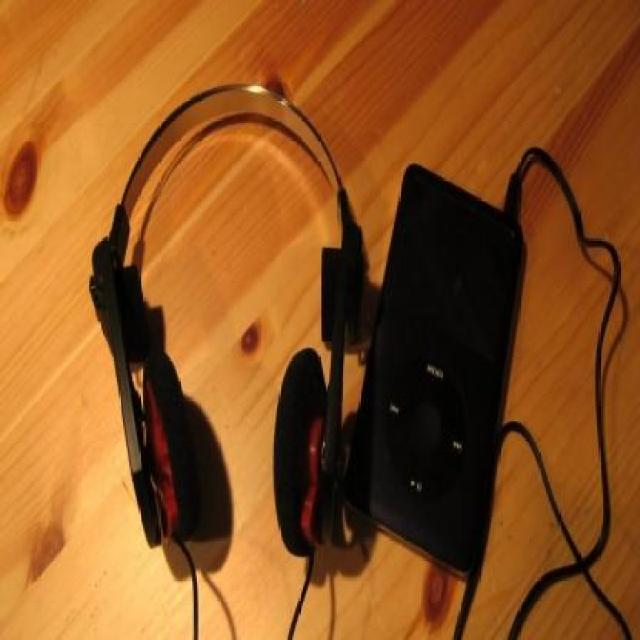earphone: (91, 57, 352, 573)
smart phone: (380, 133, 550, 597)
